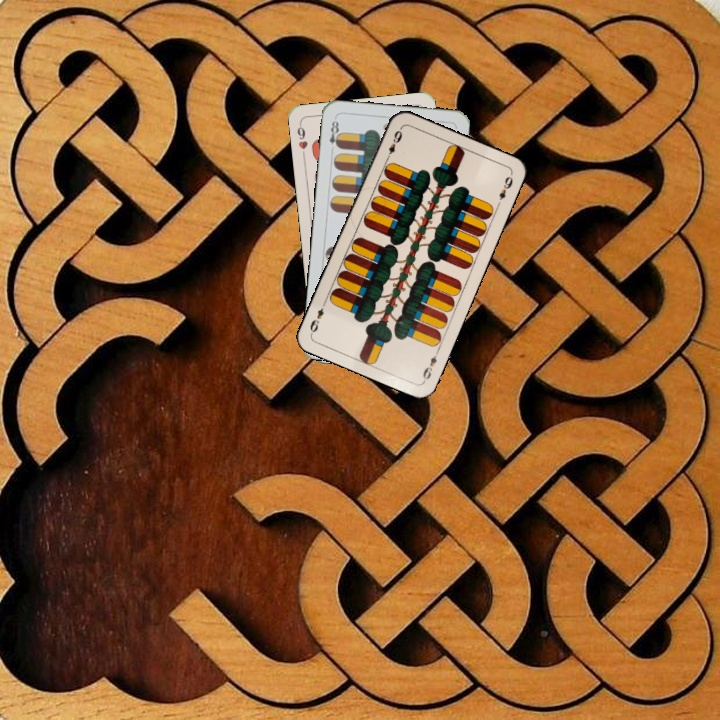E8: (325, 115, 343, 150)
E9: (382, 124, 405, 163), (419, 345, 442, 384)
H9: (293, 119, 310, 160)
